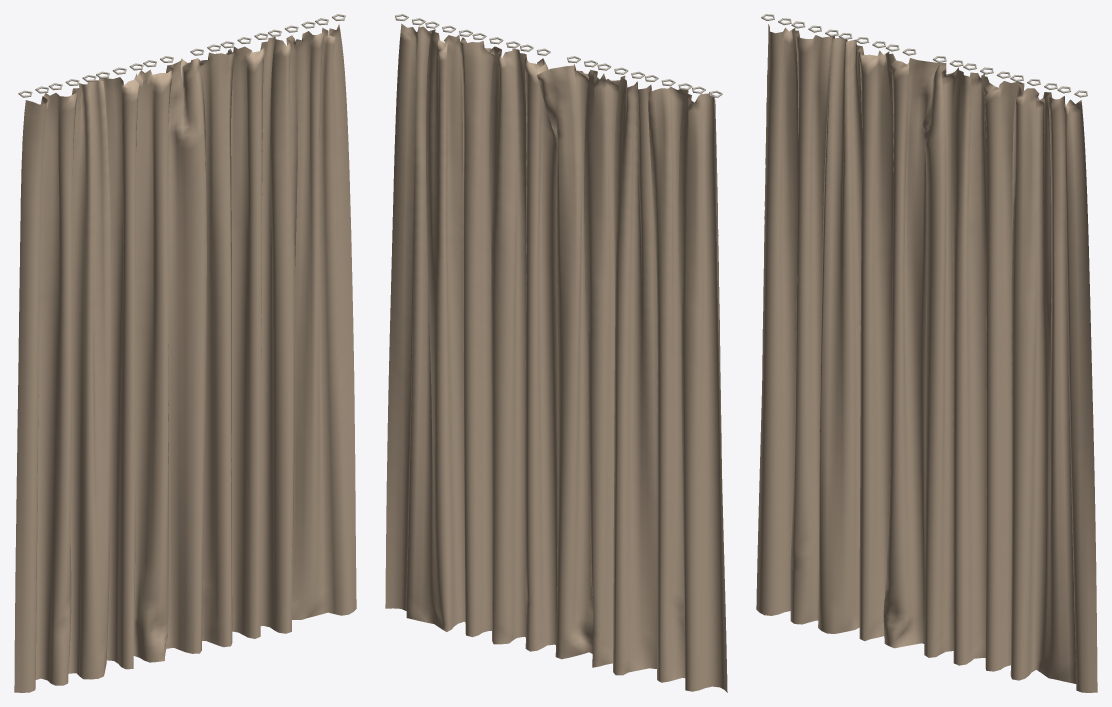
File: curtain_rings_w140_g100_114_lod0.glb
3 views of the same model, side by side, from view 1: azimuth 30°, elevation 25°; view 2: azimuth 150°, elevation 25°; view 3: azimuth 330°, elevation 25° (orthographic).
Parts seen in each view (by area): view 1: curtain_rings_g100_114_lod0_fabric, curtain_rings_g100_114_lod0_rings; view 2: curtain_rings_g100_114_lod0_fabric, curtain_rings_g100_114_lod0_rings; view 3: curtain_rings_g100_114_lod0_fabric, curtain_rings_g100_114_lod0_rings.
Part boxes in pixels (box(x1,y1,x2,y2)): curtain_rings_g100_114_lod0_fabric: box(14, 24, 356, 692); curtain_rings_g100_114_lod0_rings: box(18, 14, 345, 97); curtain_rings_g100_114_lod0_fabric: box(385, 23, 727, 692); curtain_rings_g100_114_lod0_rings: box(395, 14, 722, 97); curtain_rings_g100_114_lod0_fabric: box(756, 24, 1097, 692); curtain_rings_g100_114_lod0_rings: box(761, 14, 1087, 97).
Size of the model in its own units: 1.53 by 2.55 by 0.1491.
